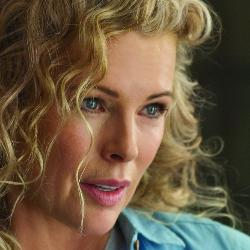face: (2, 2, 219, 238)
